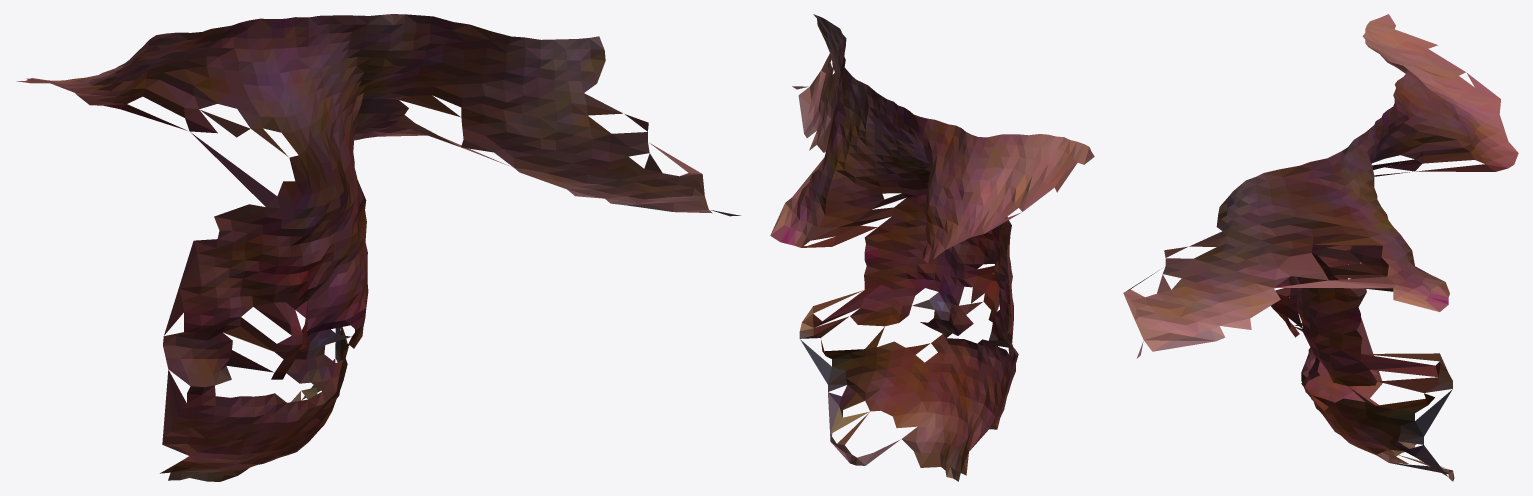
The picture shows the model from 3 angles, left to right: view 1: azimuth 30°, elevation 25°; view 2: azimuth 150°, elevation 25°; view 3: azimuth 270°, elevation 25°; orthographic projection. The views are drawn at different scales.
Parts seen in each view (by area): view 1: ofMesh; view 2: ofMesh; view 3: ofMesh.
Part boxes in pixels (bbox=[...]): ofMesh: bbox=[16, 14, 740, 481]; ofMesh: bbox=[770, 14, 1094, 481]; ofMesh: bbox=[1123, 14, 1518, 481].
Size of the model in its own units: 354 by 276 by 271.
Materials: 1 (1 with a texture image).
